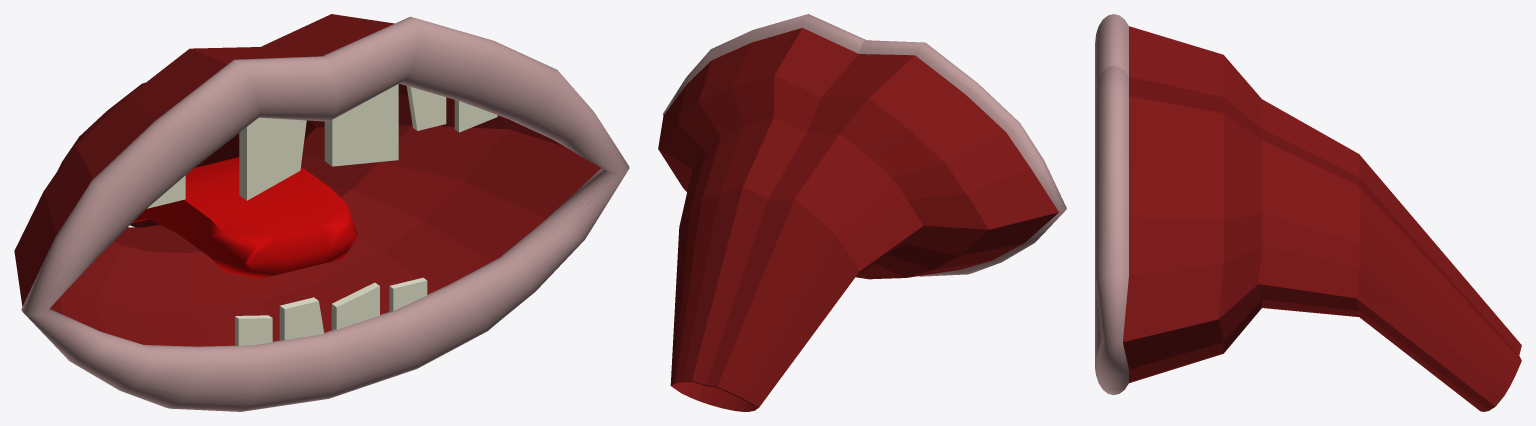
Rendered from Mouth.fbx.
3 views of the same model, side by side, from view 1: azimuth 30°, elevation 25°; view 2: azimuth 150°, elevation 25°; view 3: azimuth 270°, elevation 25° (orthographic). The views are drawn at different scales.
Parts seen in each view (by area): view 1: mouth; view 2: mouth; view 3: mouth.
Part boxes in pixels (x1,y1,x2,y2): mouth: (14,14,629,411); mouth: (658,14,1066,411); mouth: (1095,14,1521,411).
Bounding box in the file's own units: 9.85 × 6.45 × 7.12.
